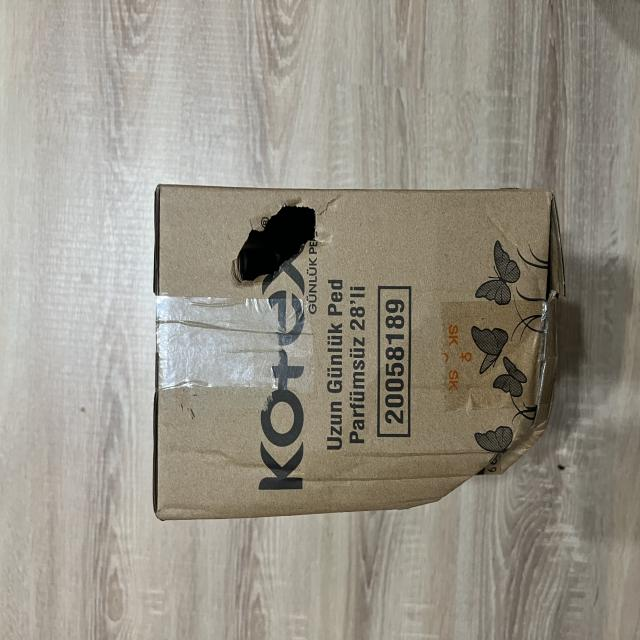damaged: (155, 184, 562, 519), (428, 405, 563, 503), (223, 197, 330, 295)
